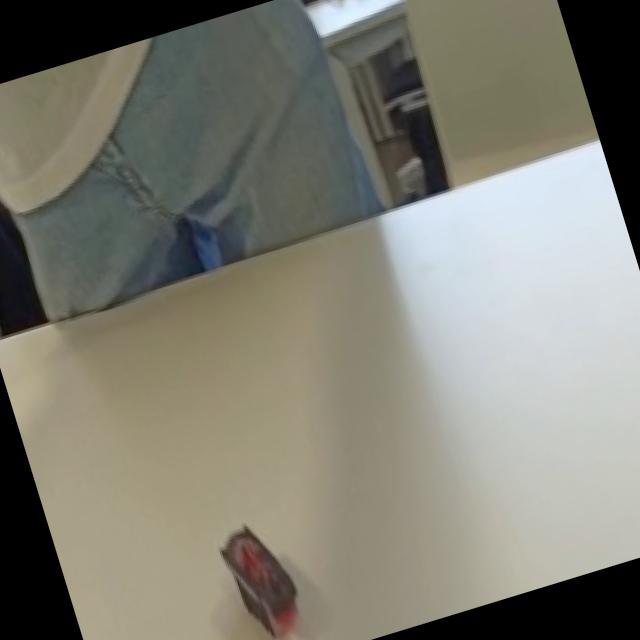2_NanoBug_Negro: (136, 442, 355, 640)
